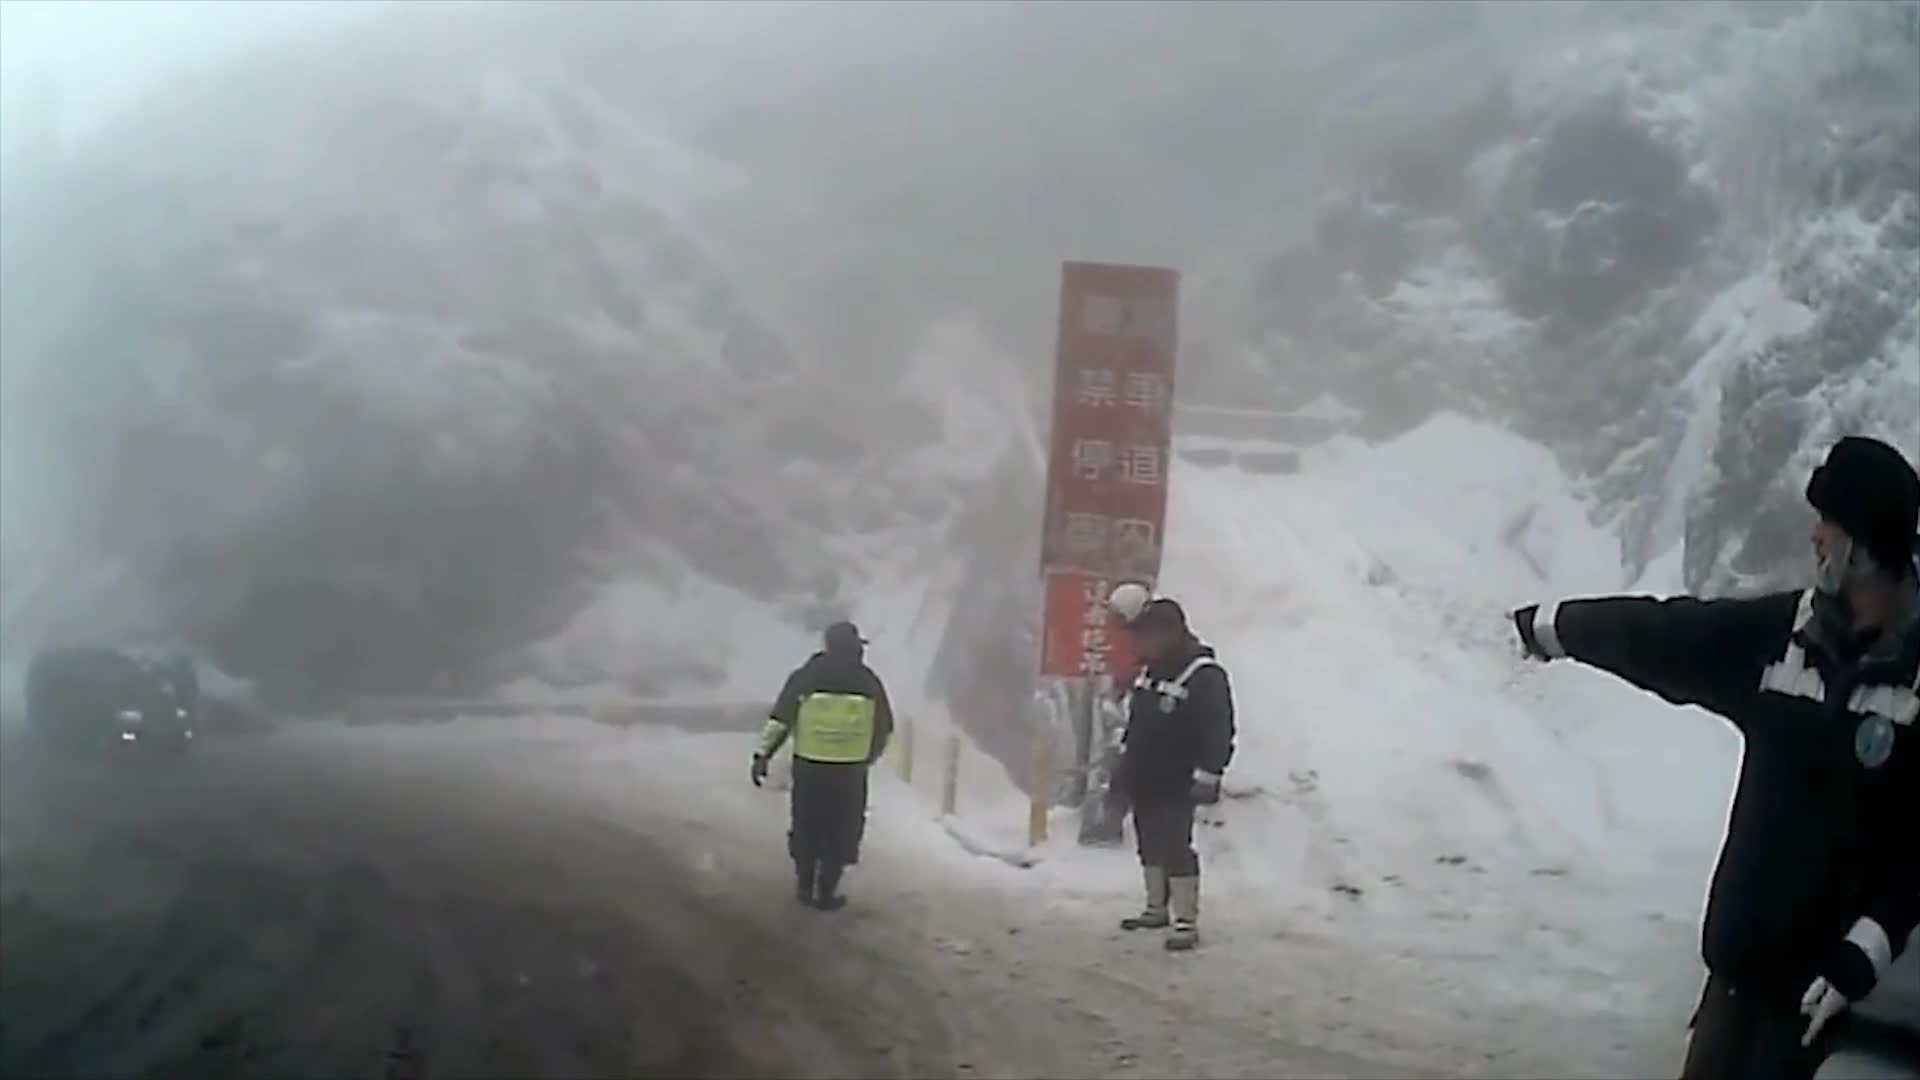pedestrian: (1488, 436, 1918, 1080), (1115, 605, 1238, 955), (748, 634, 893, 917)
vehicle: (24, 645, 193, 767)
